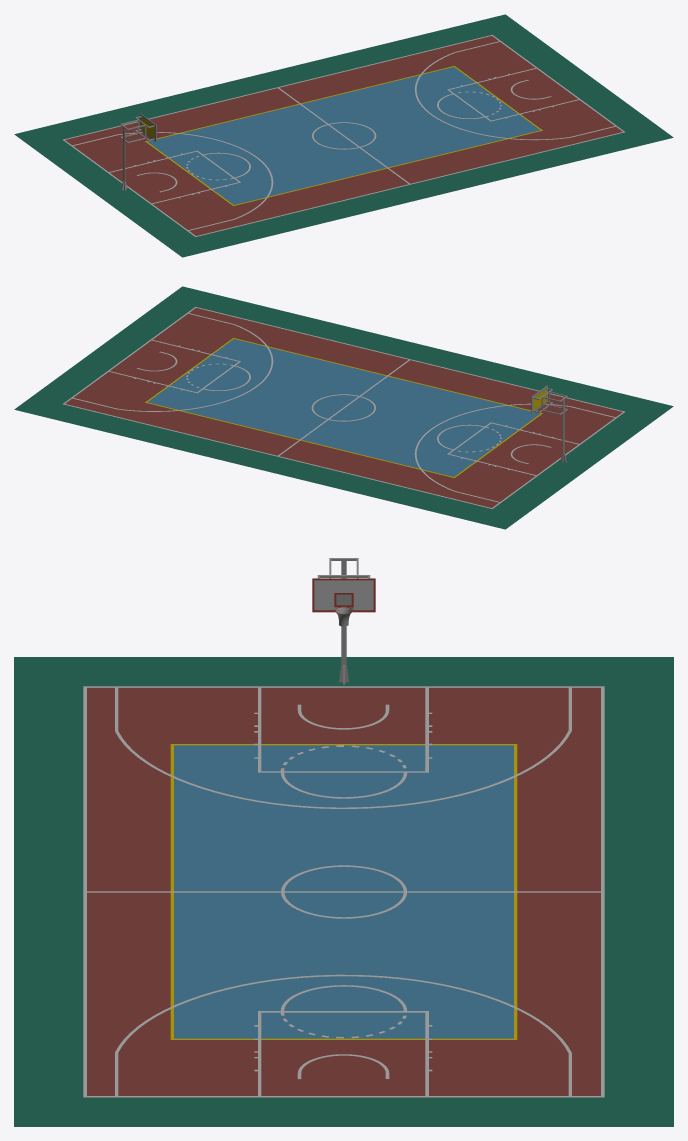
File: Basketballcourt.fbx
3 views of the same model, one above another, from view 1: azimuth 30°, elevation 25°; view 2: azimuth 150°, elevation 25°; view 3: azimuth 270°, elevation 25° (orthographic). The views are drawn at different scales.
Visible parts, largest first — view 1: Pole_basketball 15x28; view 2: Pole_basketball 15x28; view 3: Pole_basketball 15x28.
Part boxes in pixels (x1,y1,x2,y2): Pole_basketball 15x28: (14, 14, 673, 257); Pole_basketball 15x28: (14, 286, 673, 529); Pole_basketball 15x28: (14, 558, 673, 1126).
Bounding box in the file's own units: 3200 × 402 × 1900.
